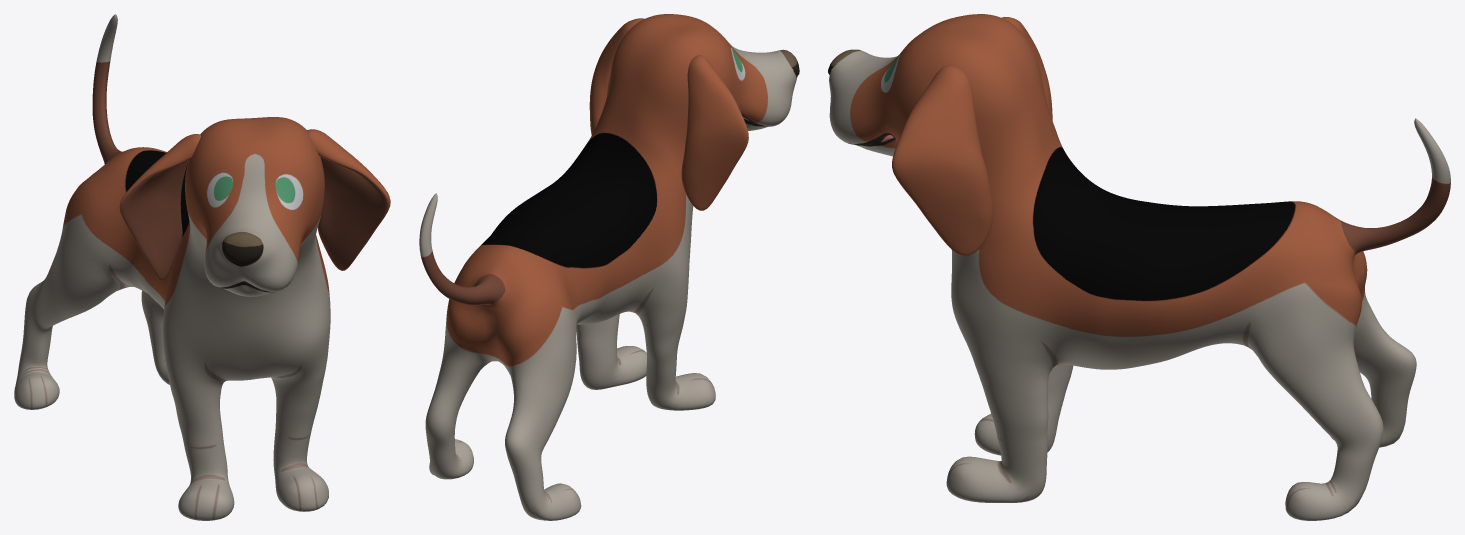
Rendered from Beagle.glb.
3 renders of one model, left to right at view 1: azimuth 30°, elevation 25°; view 2: azimuth 150°, elevation 25°; view 3: azimuth 270°, elevation 25°, orthographic. The views are drawn at different scales.
Visible parts, largest first — view 1: beagle.1; view 2: beagle.1; view 3: beagle.1.
Boxes of the visible parts, x1,y1,x2,y2 form: beagle.1: (14, 14, 390, 520); beagle.1: (419, 14, 799, 520); beagle.1: (828, 14, 1450, 520).
Bounding box in the file's own units: 0.0491 × 0.0849 × 0.1094.
1 material, 1 textured.
